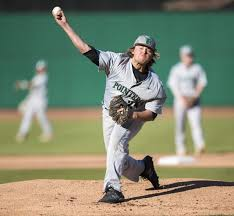baseball: (52, 7, 62, 17)
baseball player: (51, 6, 168, 205)
